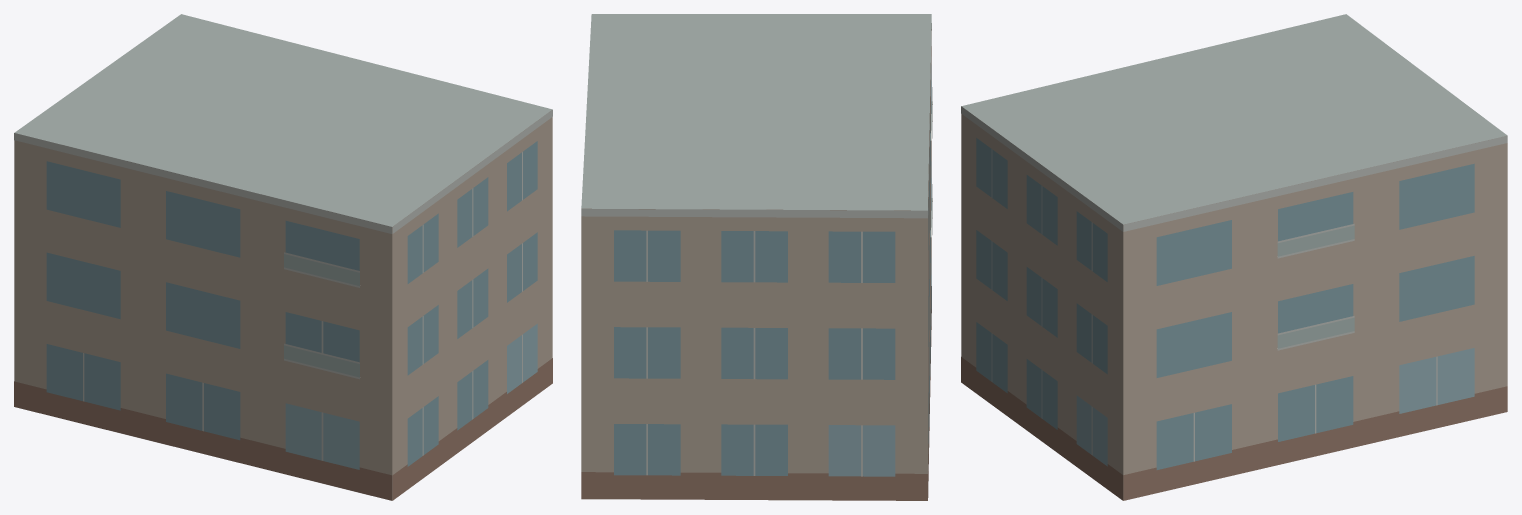
Rendered from survey-upis-32683416.glb.
3 renders of one model, left to right at view 1: azimuth 30°, elevation 25°; view 2: azimuth 150°, elevation 25°; view 3: azimuth 270°, elevation 25°, orthographic. The views are drawn at different scales.
Parts seen in each view (by area): view 1: survey-upis-32683416.tmp; view 2: survey-upis-32683416.tmp; view 3: survey-upis-32683416.tmp.
Boxes of the visible parts, left/top/right/bottom form: survey-upis-32683416.tmp: left=14, top=14, right=552, bottom=500; survey-upis-32683416.tmp: left=581, top=14, right=932, bottom=500; survey-upis-32683416.tmp: left=961, top=14, right=1507, bottom=500.
Bounding box in the file's own units: 14.97 × 9.15 × 16.41.
